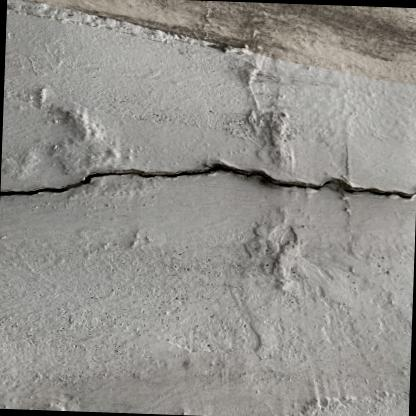crack: (0, 161, 415, 202)
